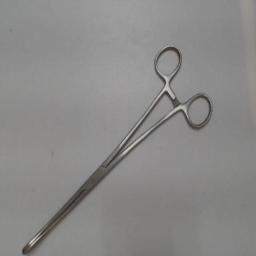Sponge Forceps: (19, 41, 217, 255)
